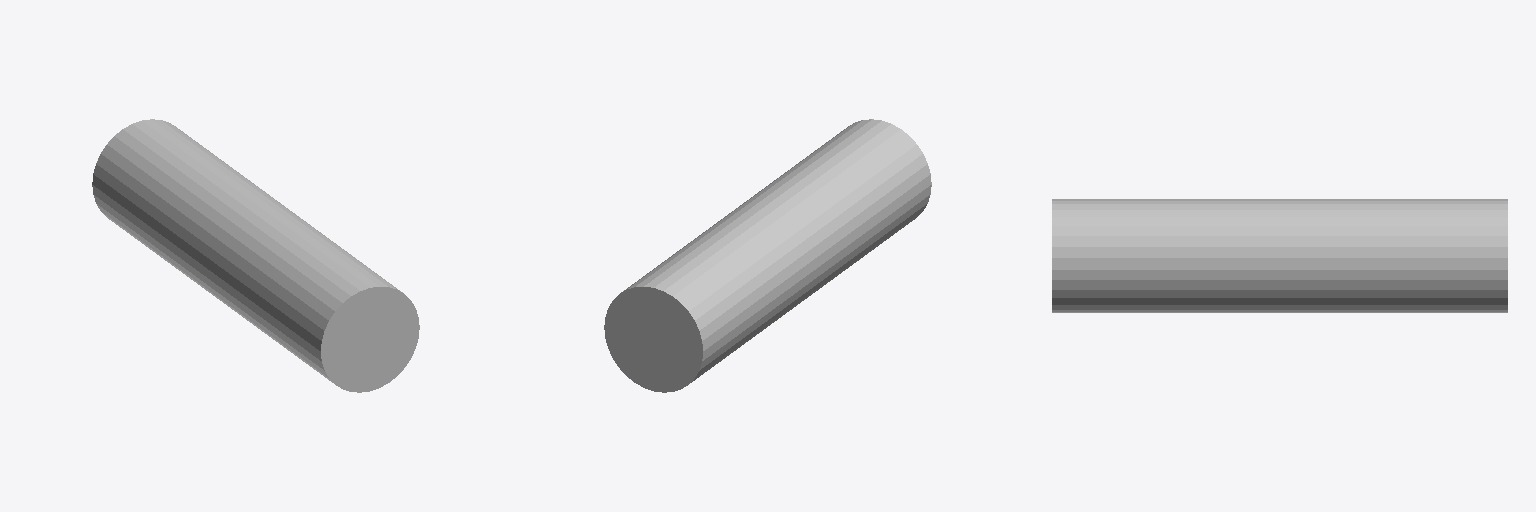
File: tronco.obj
3 views of the same model, side by side, from view 1: azimuth 30°, elevation 25°; view 2: azimuth 150°, elevation 25°; view 3: azimuth 270°, elevation 25° (orthographic).
Visible parts, largest first — view 1: Cilindro; view 2: Cilindro; view 3: Cilindro.
Part boxes in pixels (x1,y1,x2,y2): Cilindro: (92, 119, 419, 392); Cilindro: (604, 119, 931, 392); Cilindro: (1052, 199, 1507, 312).
Bounding box in the file's own units: 1 × 1 × 4.